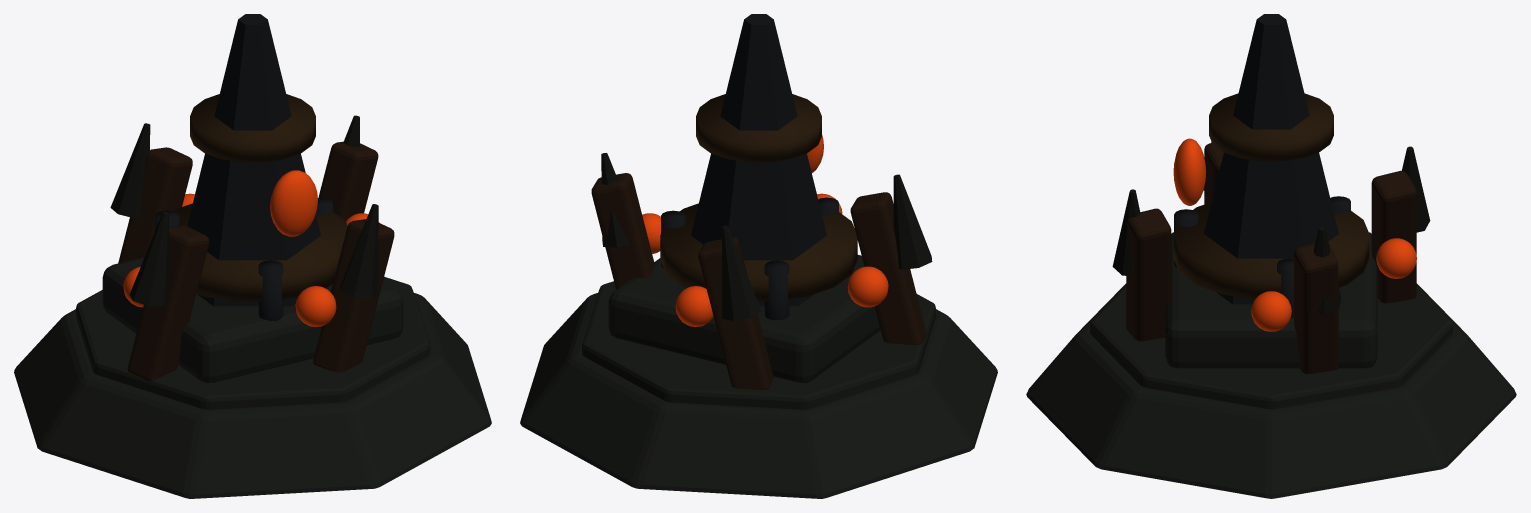
Rendered from TowerCorrupt2.obj.
3 views of the same model, side by side, from view 1: azimuth 30°, elevation 25°; view 2: azimuth 150°, elevation 25°; view 3: azimuth 270°, elevation 25° (orthographic).
Visible parts, largest first — view 1: weathered_stone_dais_lower_course, dark_obelisk_core, weathered_stone_dais_upper_course, blackstone_foot, oak_ritual_brace.002, bronze_binding_ring, bronze_upper_ring, oak_ritual_brace.003, oak_ritual_brace.001, oak_ritual_brace, amber_runic_heart, bone_ward_spike.003 (+4 smaller); view 2: weathered_stone_dais_lower_course, dark_obelisk_core, weathered_stone_dais_upper_course, blackstone_foot, bronze_binding_ring, oak_ritual_brace.002, bronze_upper_ring, oak_ritual_brace.001, oak_ritual_brace, bone_ward_spike.001, bone_ward_spike.002, iron_tether.001 (+4 smaller); view 3: weathered_stone_dais_lower_course, dark_obelisk_core, weathered_stone_dais_upper_course, blackstone_foot, bronze_binding_ring, oak_ritual_brace.003, bronze_upper_ring, oak_ritual_brace, oak_ritual_brace.001, amber_runic_heart, bound_amber_pebble.001, bound_amber_pebble (+5 smaller).
Boxes of the visible parts, x1,y1,x2,y2 form: weathered_stone_dais_lower_course: (14,293,491,498); dark_obelisk_core: (187,14,320,306); weathered_stone_dais_upper_course: (76,276,429,409); blackstone_foot: (102,257,403,382); oak_ritual_brace.002: (127,226,209,381); bronze_binding_ring: (174,203,347,301); bronze_upper_ring: (190,94,315,162); oak_ritual_brace.003: (313,219,394,372); oak_ritual_brace.001: (118,147,192,263); oak_ritual_brace: (318,141,378,220); amber_runic_heart: (270,170,317,236); bone_ward_spike.003: (340,204,378,299); weathered_stone_dais_lower_course: (520,293,997,498); dark_obelisk_core: (691,14,826,306); weathered_stone_dais_upper_course: (582,281,935,409); blackstone_foot: (608,255,880,382); bronze_binding_ring: (660,203,857,301); oak_ritual_brace.002: (850,192,926,345); bronze_upper_ring: (696,94,821,162); oak_ritual_brace.001: (698,237,773,389); oak_ritual_brace: (591,173,654,289); bone_ward_spike.001: (721,225,761,320); bone_ward_spike.002: (893,174,932,269); iron_tether.001: (764,260,789,320); weathered_stone_dais_lower_course: (1026,283,1516,498); dark_obelisk_core: (1204,14,1338,304); weathered_stone_dais_upper_course: (1090,285,1452,409); blackstone_foot: (1165,232,1377,368); bronze_binding_ring: (1173,202,1369,299); oak_ritual_brace.003: (1126,208,1171,341); bronze_upper_ring: (1209,93,1333,161); oak_ritual_brace: (1294,243,1338,373); oak_ritual_brace.001: (1371,170,1416,303); amber_runic_heart: (1173,138,1206,205); bound_amber_pebble.001: (1376,238,1416,278); bound_amber_pebble: (1251,291,1291,331).
Size of the model in its own units: 1.8 by 1.53 by 1.8.
